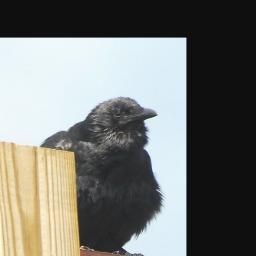Crow: (42, 96, 167, 256)
